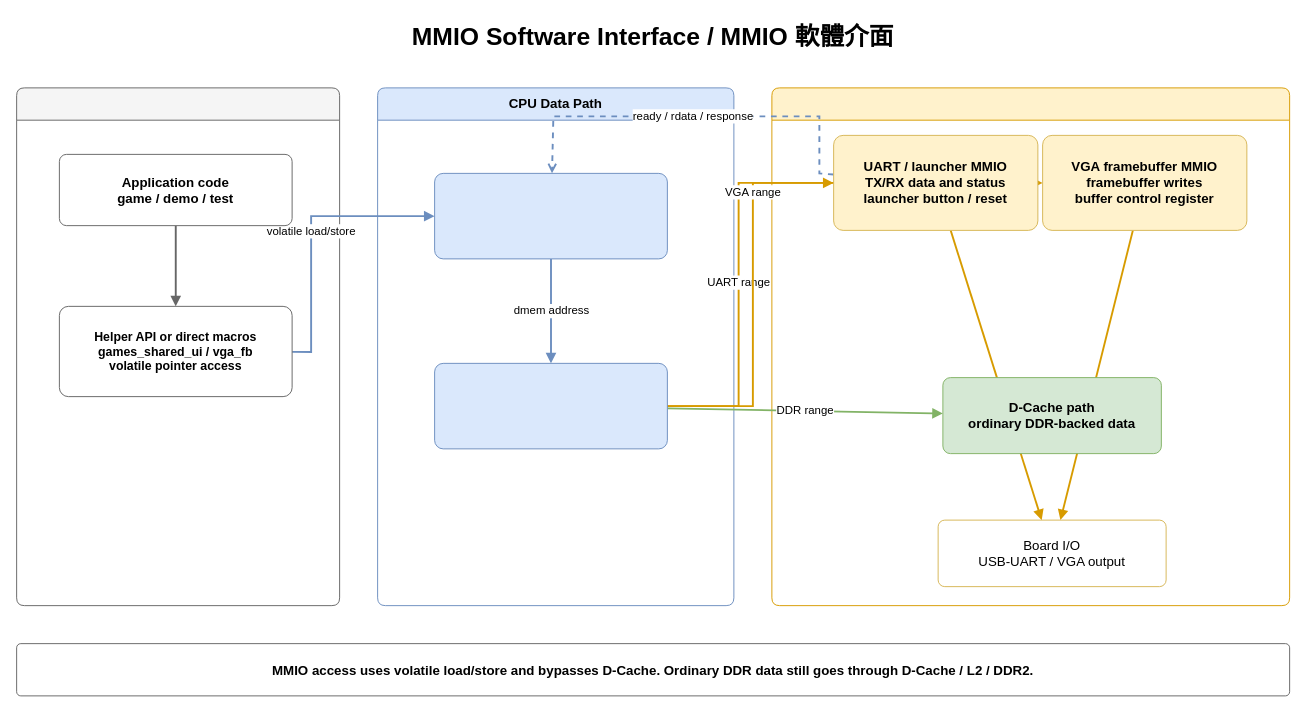
This 1306x713 diagram has some shape labels left out. The box of each missing label's shape, as (x1, y1, x2, y2) in pixels:
Address Decoder MMIO hit? select peripheral or D$: (434, 362, 667, 449)
Bare-metal C Software: (16, 87, 340, 606)
CPU MEM stage load/store request addr / data / strobe: (434, 172, 667, 259)
Hardware Target: (771, 87, 1290, 606)
